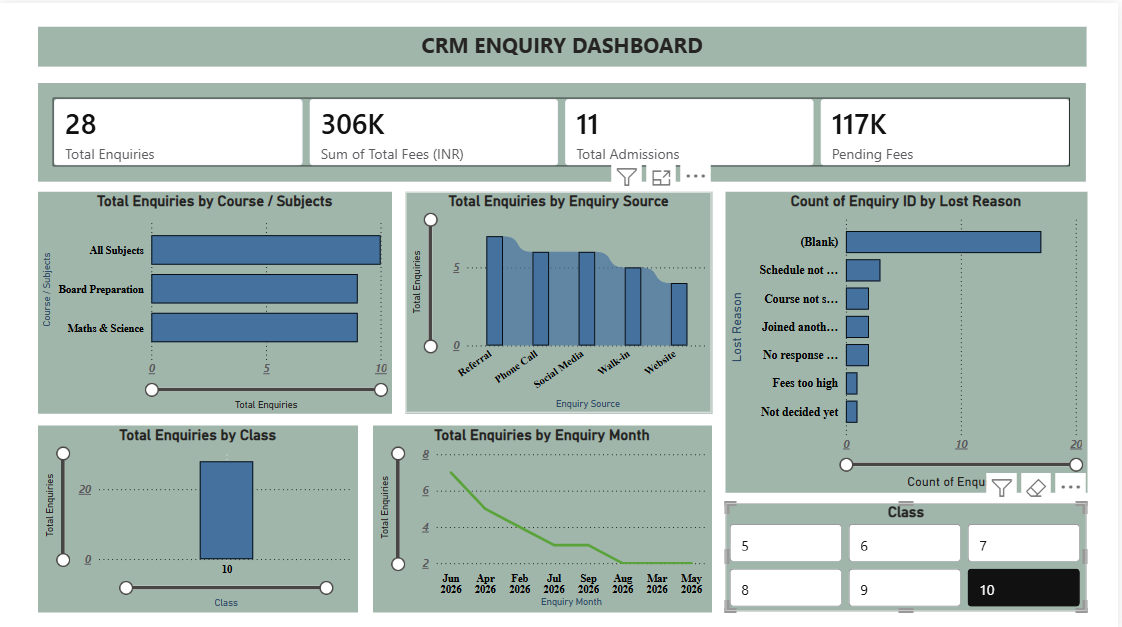

The dashboard page shown, as its layout file describes it:
{"tool":"powerbi","page":{"name":"Enquiry","canvas":[1280,720],"ordinal":0},"visuals":[{"type":"cardVisual","fields":{"Data":["EnquiryData.Total Enquiries","Sum(EnquiryData.Total Fees (INR))","EnquiryData.Total Admissions","EnquiryData.Pending Fees"]},"box":[46.2,91.2,1197.5,112.5],"z":0},{"type":"textbox","box":[46,27.4,1198.1,46],"z":1000},{"type":"ribbonChart","fields":{"Category":["EnquiryData.Enquiry Source"],"Y":["EnquiryData.Total Enquiries"]},"box":[465,215,350,253.8],"z":2000},{"type":"barChart","fields":{"Category":["EnquiryData.Lost Reason"],"Y":["CountNonNull(EnquiryData.Enquiry ID)"]},"box":[831.2,215,412.5,343.8],"z":3000},{"type":"lineChart","fields":{"Y":["EnquiryData.Total Enquiries"],"Category":["EnquiryData.Enquiry Month"]},"box":[428.8,482.5,386.2,212.5],"z":4000},{"type":"clusteredBarChart","fields":{"Category":["EnquiryData.Course / Subjects"],"Y":["EnquiryData.Total Enquiries"]},"box":[46.2,215,403.8,253.8],"z":5000},{"type":"clusteredColumnChart","fields":{"Category":["EnquiryData.Class"],"Y":["EnquiryData.Total Enquiries"]},"box":[46,483,365,213],"z":6000},{"type":"advancedSlicerVisual","fields":{"Values":["EnquiryData.Class"]},"box":[831.2,571.2,412.5,123.8],"z":7000}]}

Visuals, with their boxes in screenshot pixels (x1, y1, x2, y2), scaled from the page's 1280x720 canvas onto the 1122x627 screenshot:
cardVisual - EnquiryData.Total Enquiries x Sum(EnquiryData.Total Fees (INR)): <box>40,79,1090,177</box>
textbox: <box>40,24,1091,64</box>
ribbonChart - EnquiryData.Enquiry Source x EnquiryData.Total Enquiries: <box>408,187,714,408</box>
barChart - EnquiryData.Lost Reason x CountNonNull(EnquiryData.Enquiry ID): <box>729,187,1090,487</box>
lineChart - EnquiryData.Total Enquiries x EnquiryData.Enquiry Month: <box>376,420,714,605</box>
clusteredBarChart - EnquiryData.Course / Subjects x EnquiryData.Total Enquiries: <box>40,187,394,408</box>
clusteredColumnChart - EnquiryData.Class x EnquiryData.Total Enquiries: <box>40,421,360,606</box>
advancedSlicerVisual - EnquiryData.Class: <box>729,497,1090,605</box>
